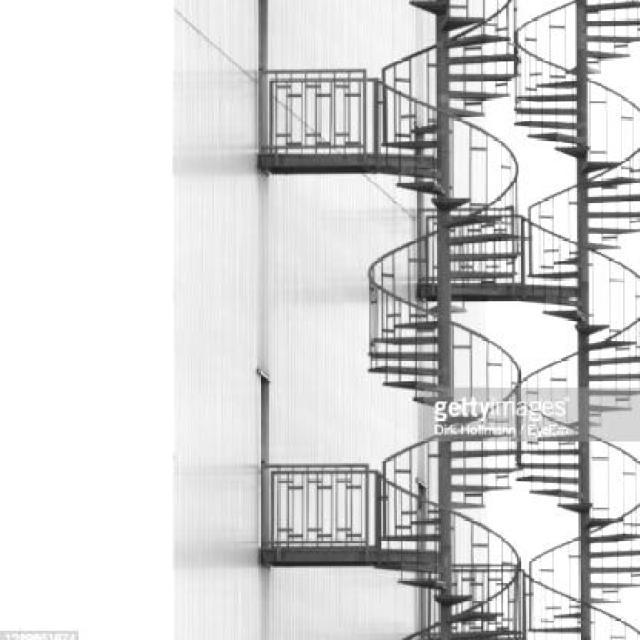stair: (252, 53, 640, 296), (390, 438, 512, 639), (526, 434, 640, 640), (368, 312, 483, 410), (562, 328, 640, 417)
